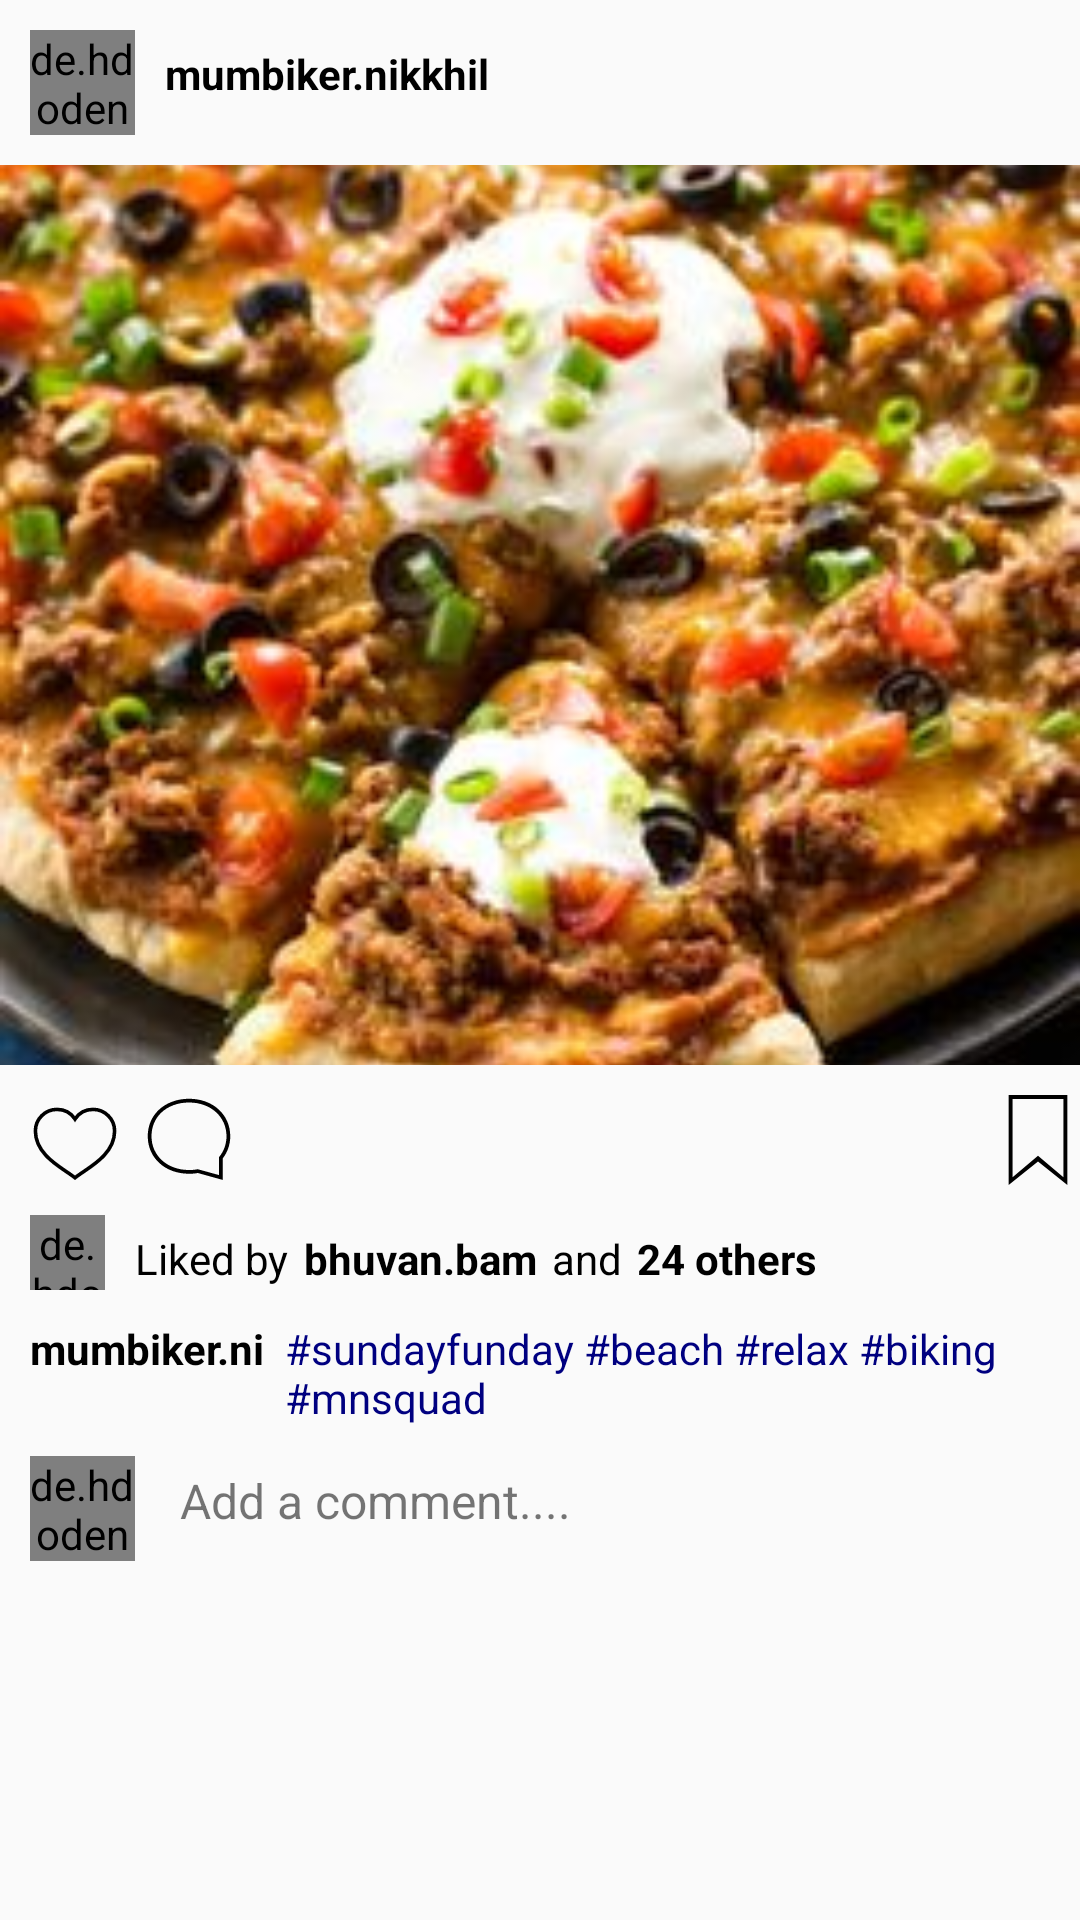

Screen size 1080 × 1920. Icon name, then its center in pixels as point (x, y):
bookmark: point (1038, 1140)
comment: point (189, 1139)
